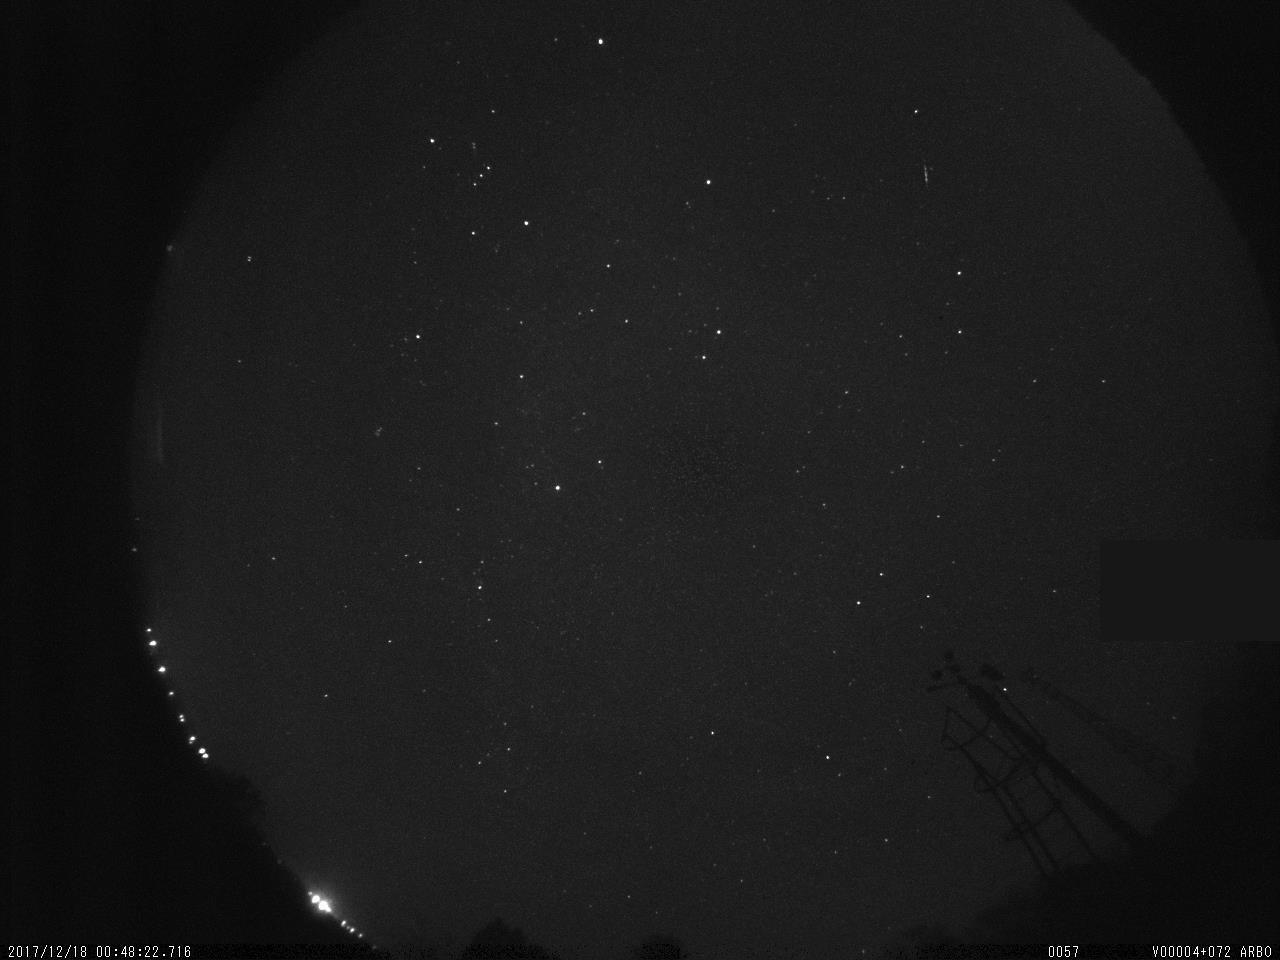meteor: (902, 152, 947, 200)
